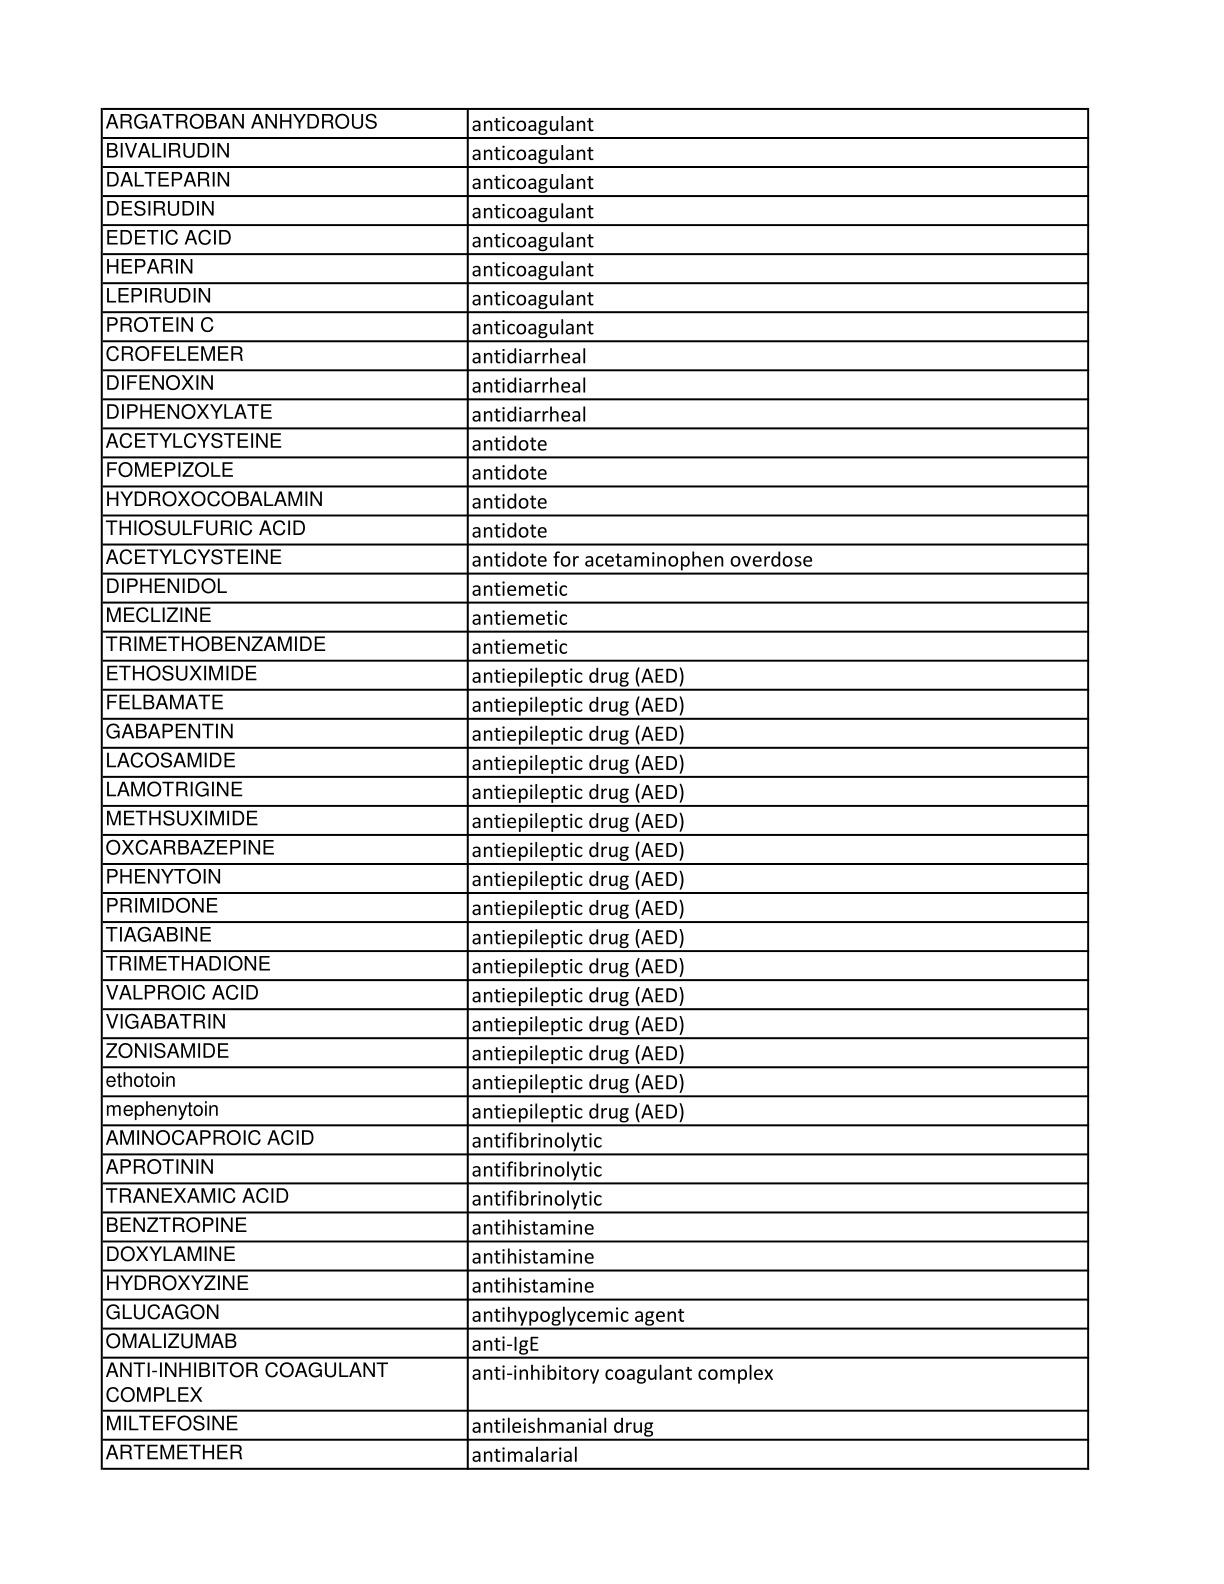full_lined: (96, 102, 1095, 1475)
